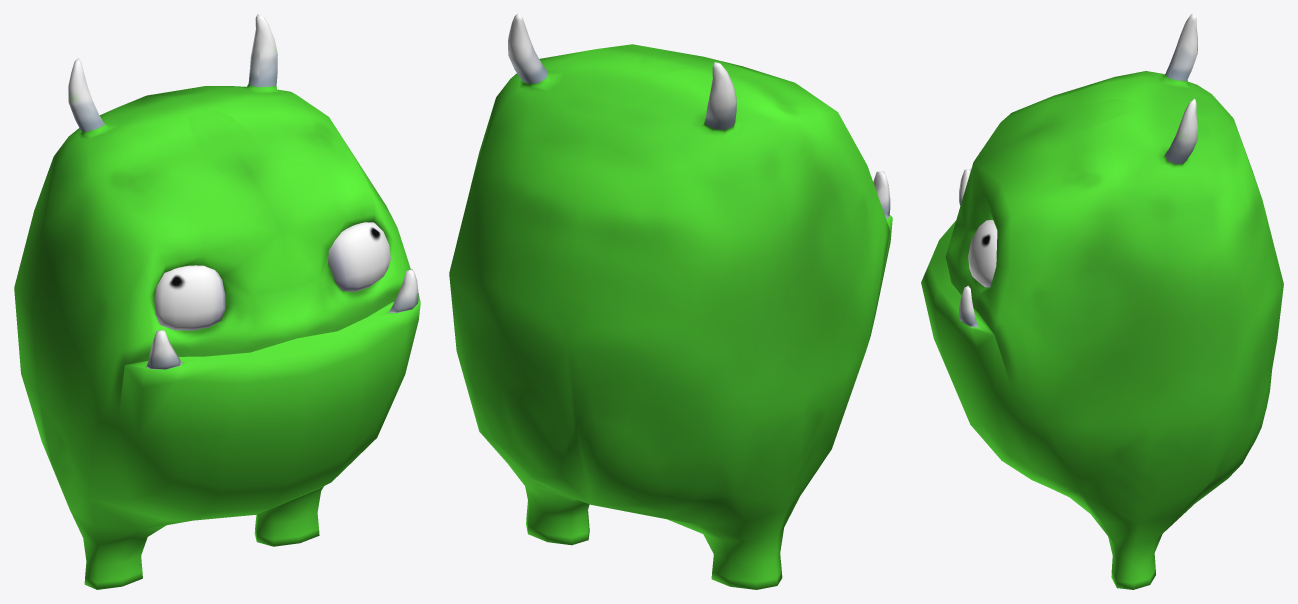
Rendered from enemy_placeholder.fbx.
3 views of the same model, side by side, from view 1: azimuth 30°, elevation 25°; view 2: azimuth 150°, elevation 25°; view 3: azimuth 270°, elevation 25° (orthographic). The views are drawn at different scales.
Visible parts, largest first — view 1: Cube; view 2: Cube; view 3: Cube.
Part boxes in pixels (x1=…): Cube: x1=14, y1=14, x2=420, y2=589; Cube: x1=449, y1=14, x2=892, y2=589; Cube: x1=921, y1=14, x2=1283, y2=589.
Bounding box in the file's own units: 2.42 × 3.68 × 2.51.
Materials: 1 (1 with a texture image).
